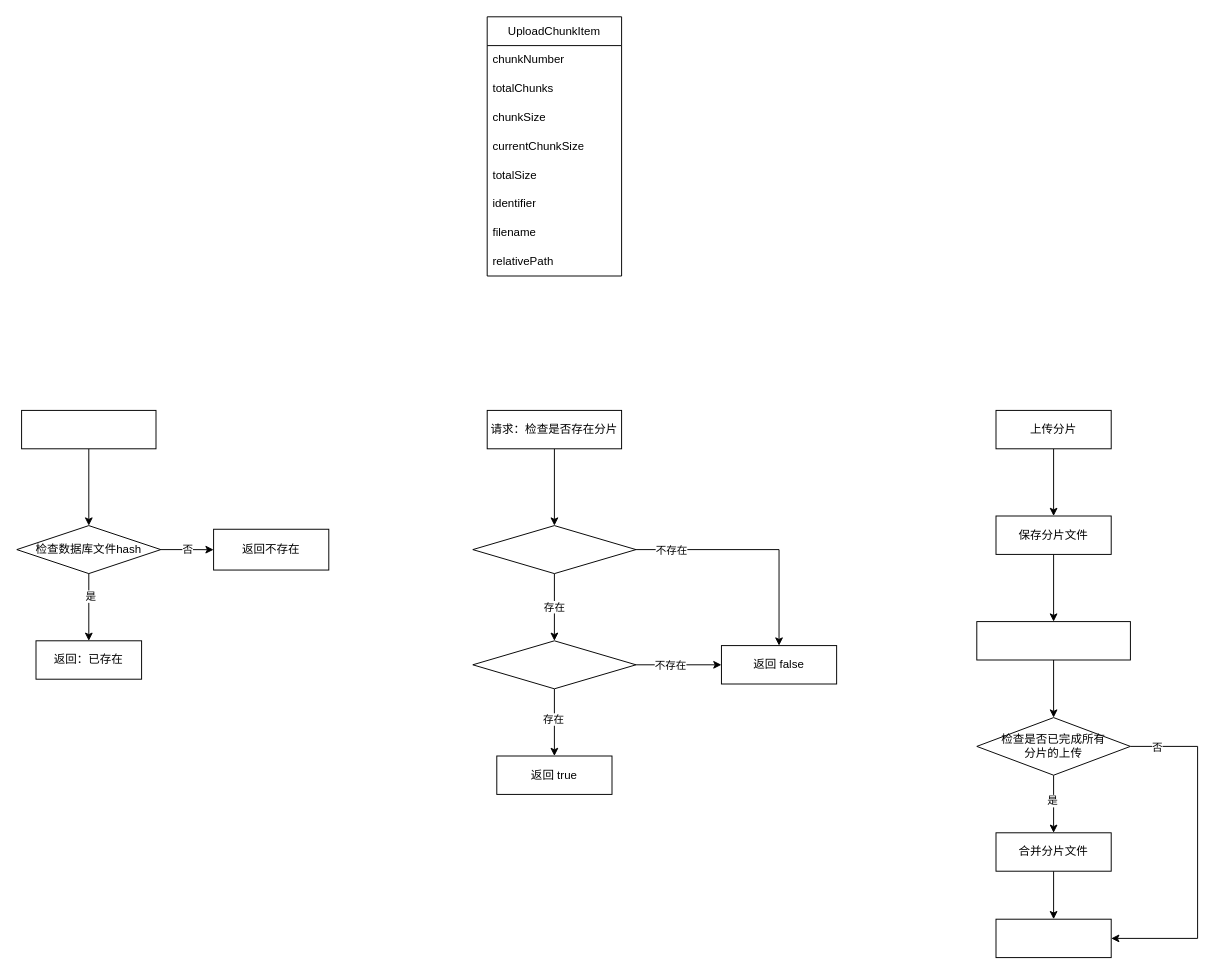
Image size: 1222x974. Some labels were removed from this diagram. The box of each missing label's shape, as (x1, y1, x2, y2) in pixels:
保存分片记录到数据库: (976, 621, 1130, 660)
检查分片文件: (472, 640, 636, 689)
检查数据库分片记录: (472, 525, 636, 574)
检查文件是否存在: (21, 409, 156, 449)
返回: (995, 918, 1111, 958)
